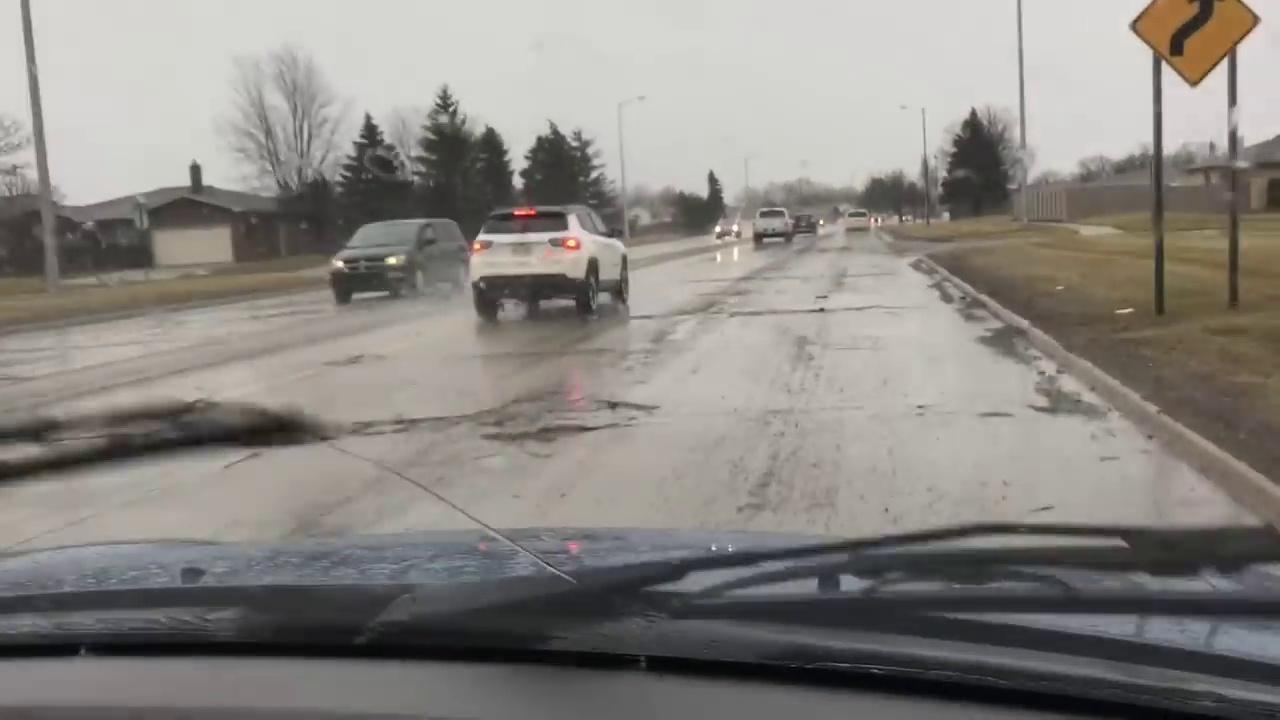pothole: (469, 387, 652, 446)
